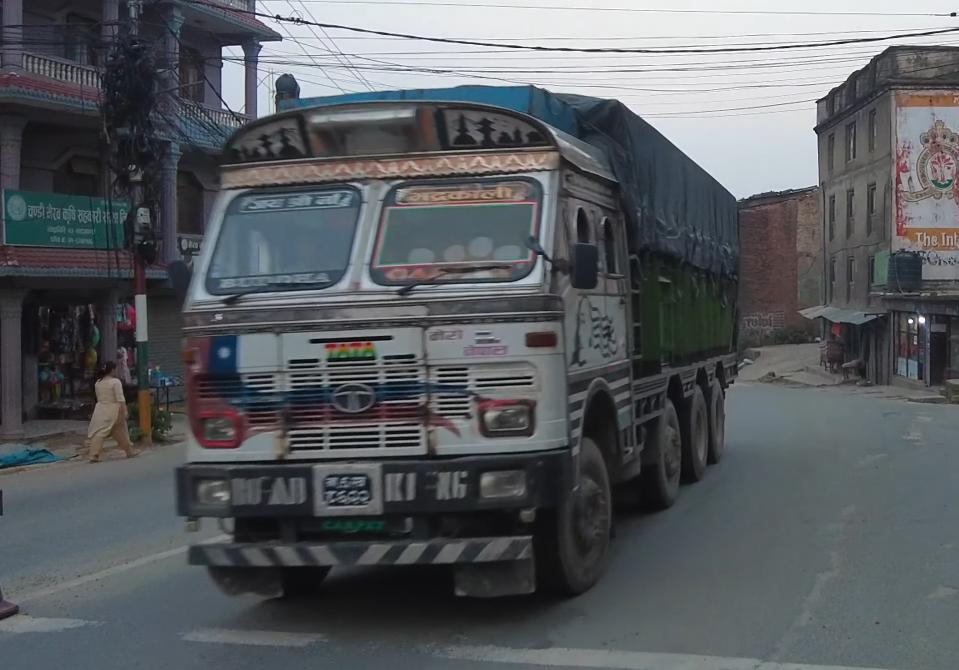truck: (172, 83, 742, 602)
